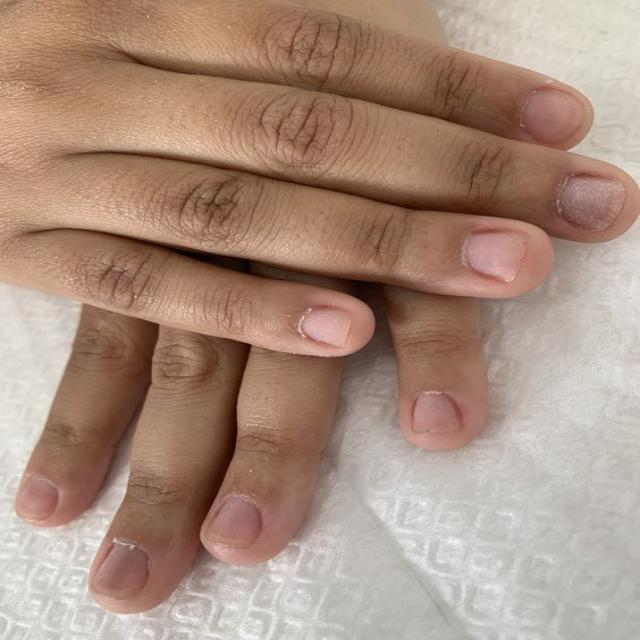Fingernail: (559, 175, 626, 231), (523, 89, 585, 142), (463, 233, 528, 283), (93, 543, 148, 600), (206, 497, 262, 546), (300, 308, 353, 348), (412, 393, 462, 433), (16, 480, 57, 519)
